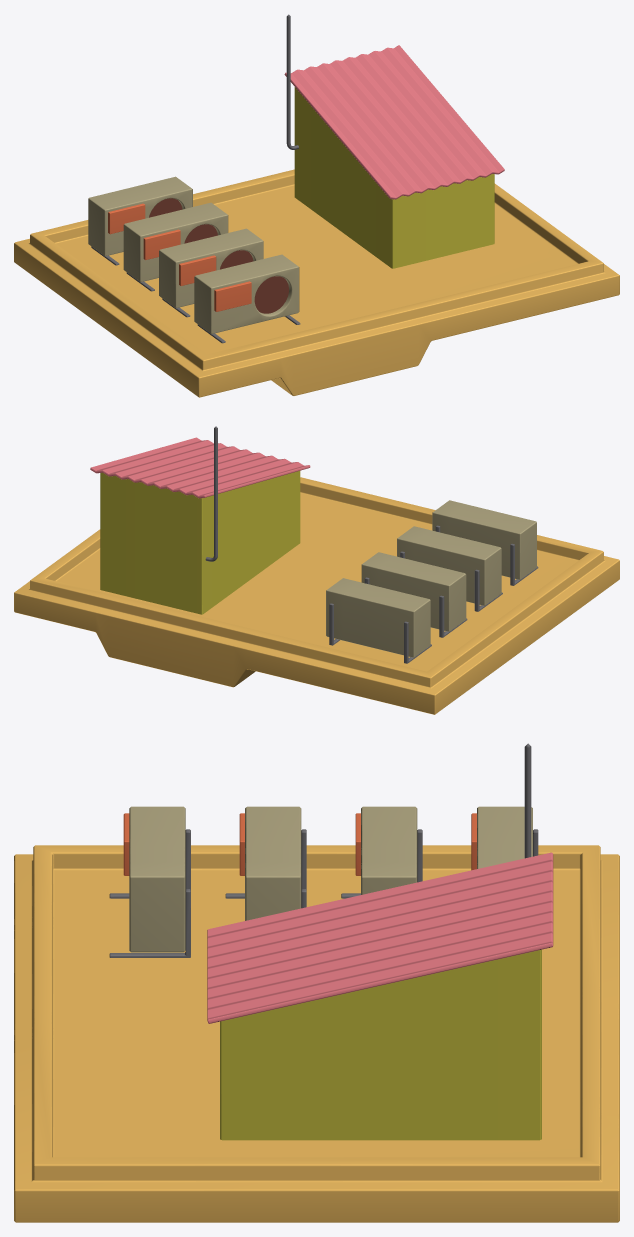
Rendered from TStruct_House_A.fbx.
The picture shows the model from 3 angles, top to bottom: view 1: azimuth 30°, elevation 25°; view 2: azimuth 150°, elevation 25°; view 3: azimuth 270°, elevation 25°; orthographic projection. The views are drawn at different scales.
Visible parts, largest first — view 1: Plane, Plane.002; view 2: Plane, Plane.002; view 3: Plane, Plane.002.
Boxes of the visible parts, bbox=[...] form: Plane: bbox=[14, 45, 619, 397]; Plane.002: bbox=[91, 14, 300, 343]; Plane: bbox=[14, 437, 619, 714]; Plane.002: bbox=[205, 426, 538, 663]; Plane: bbox=[14, 806, 619, 1222]; Plane.002: bbox=[109, 743, 538, 957].
Size of the model in its own units: 821 by 428 by 625.
